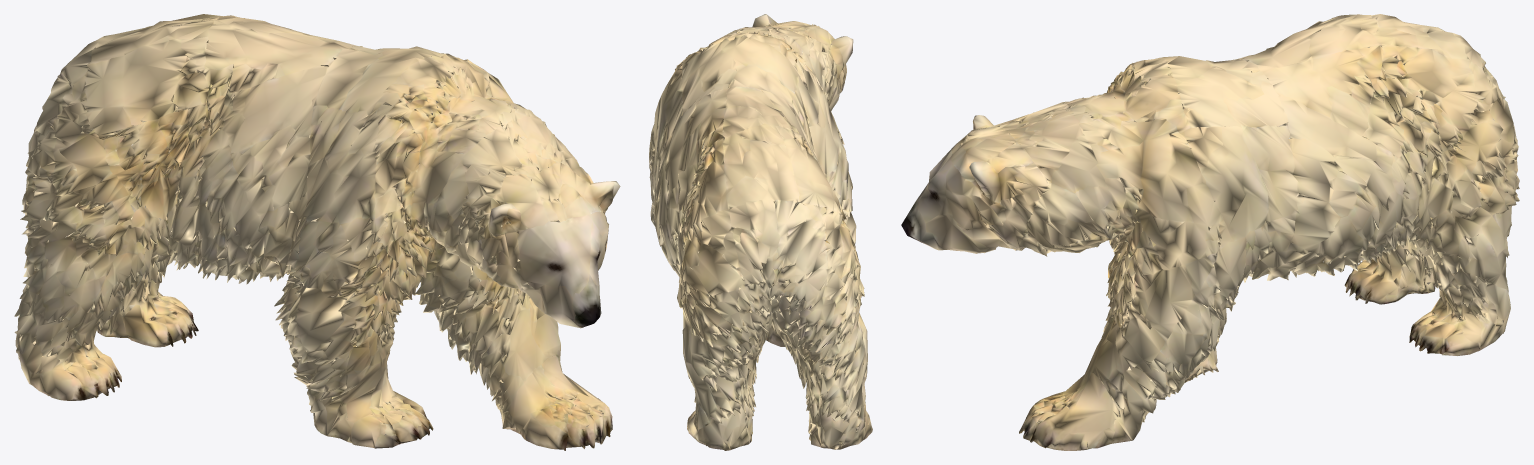
Rendered from polar-bear.glb.
3 views of the same model, side by side, from view 1: azimuth 30°, elevation 25°; view 2: azimuth 150°, elevation 25°; view 3: azimuth 270°, elevation 25° (orthographic). The views are drawn at different scales.
Visible parts, largest first — view 1: polar-bear; view 2: polar-bear; view 3: polar-bear.
Part boxes in pixels (box(x1,y1,x2,y2)): polar-bear: box(14, 14, 620, 450); polar-bear: box(649, 14, 872, 450); polar-bear: box(901, 14, 1519, 450).
Bounding box in the file's own units: 1.63 × 1.37 × 2.33.
Materials: 1 (1 with a texture image).
